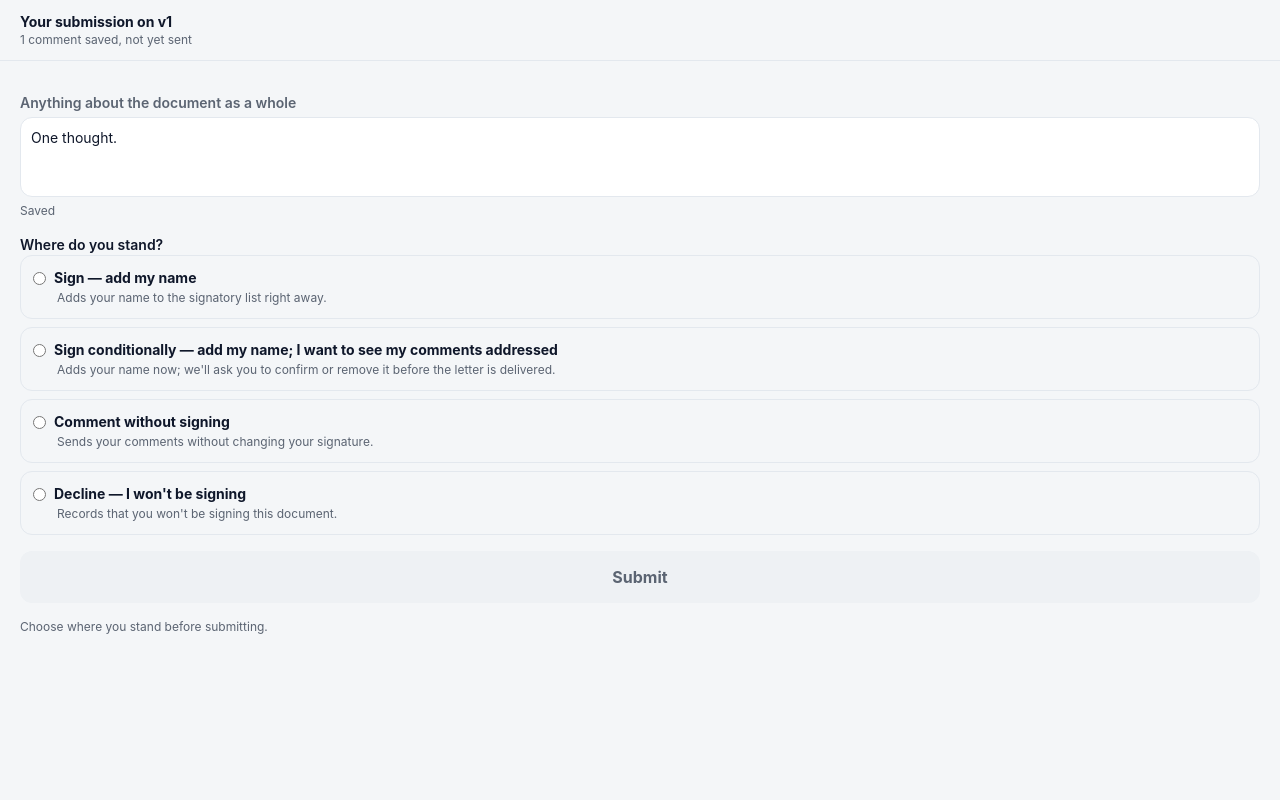
it: ReviewTray — a refused submission is never swallowed › shows the server's message as an alert when the submission is refused
Click the radio button labelled "Comment without signing": [40, 422] box [33,416,46,428]
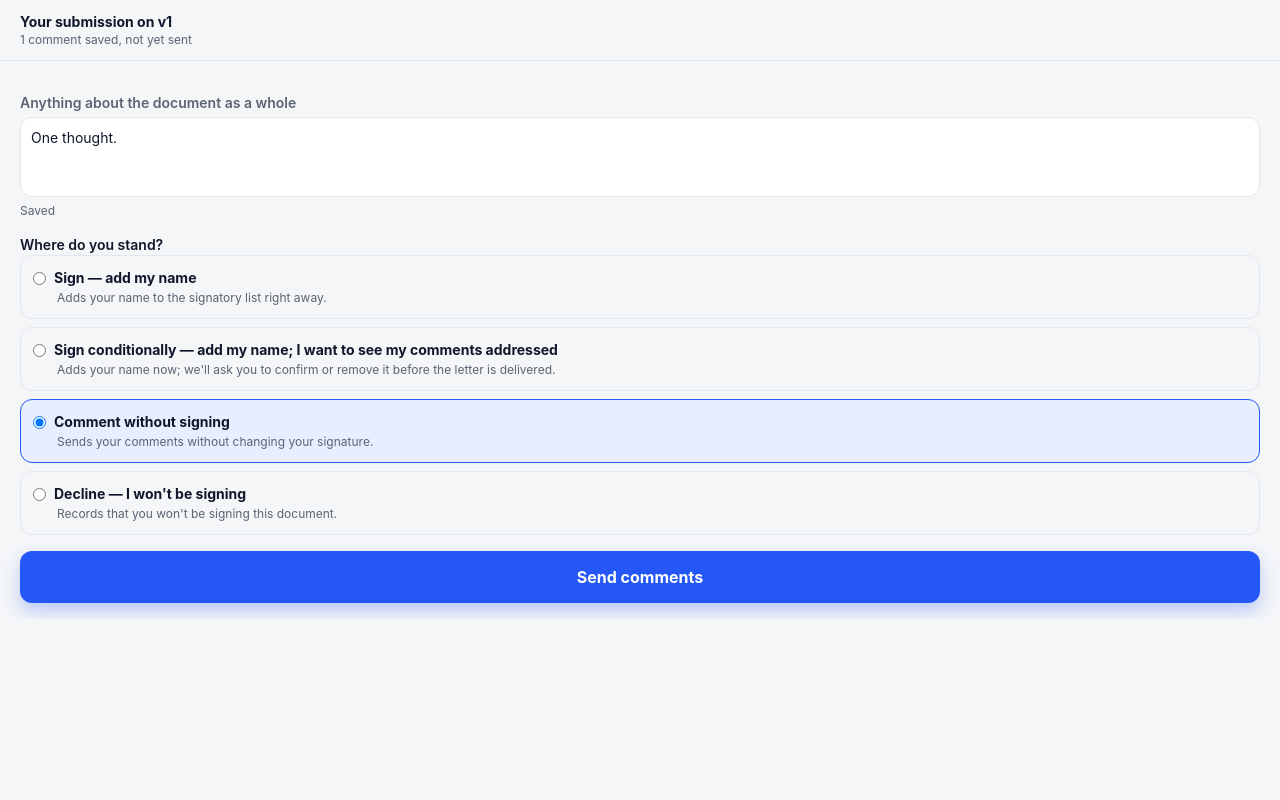
Click the button "Send comments": [640, 577] box [20,551,1260,603]
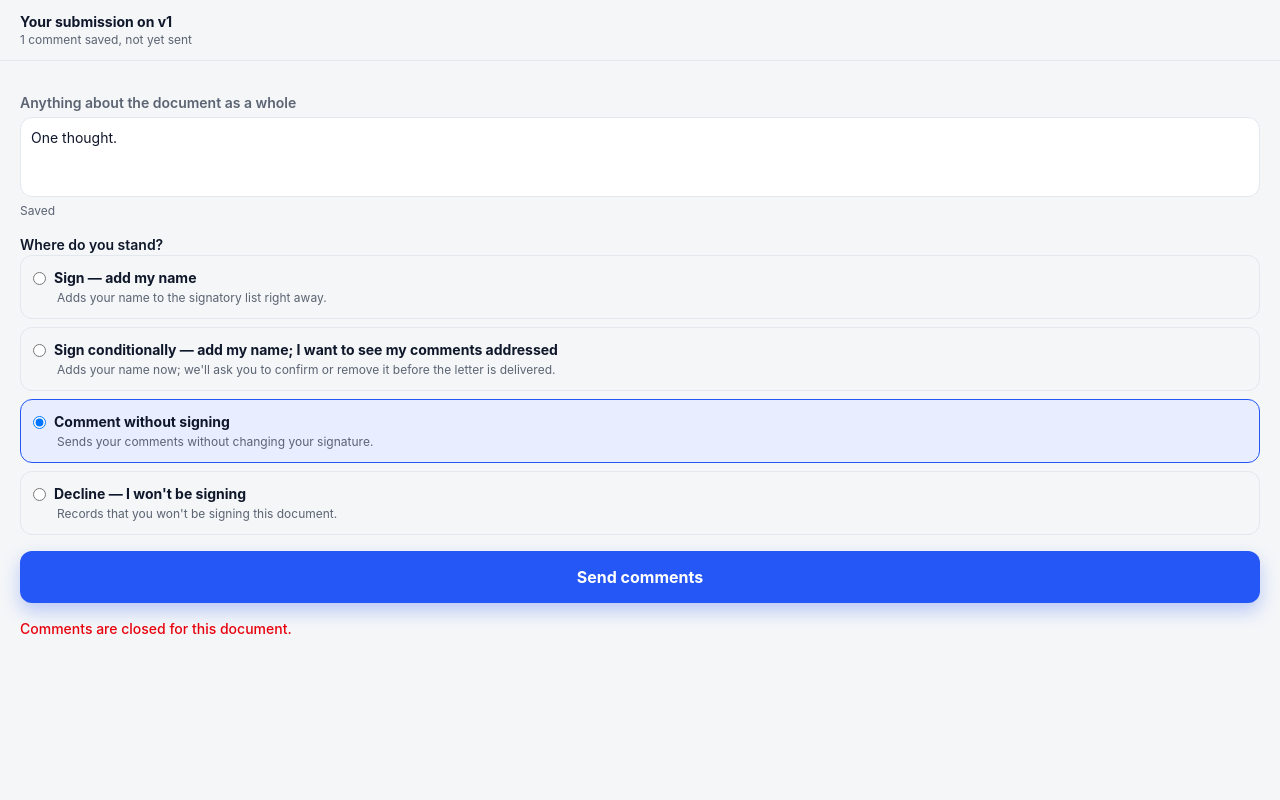
Now the message reads "Comments are closed for this document.", box [20,620,292,637]
